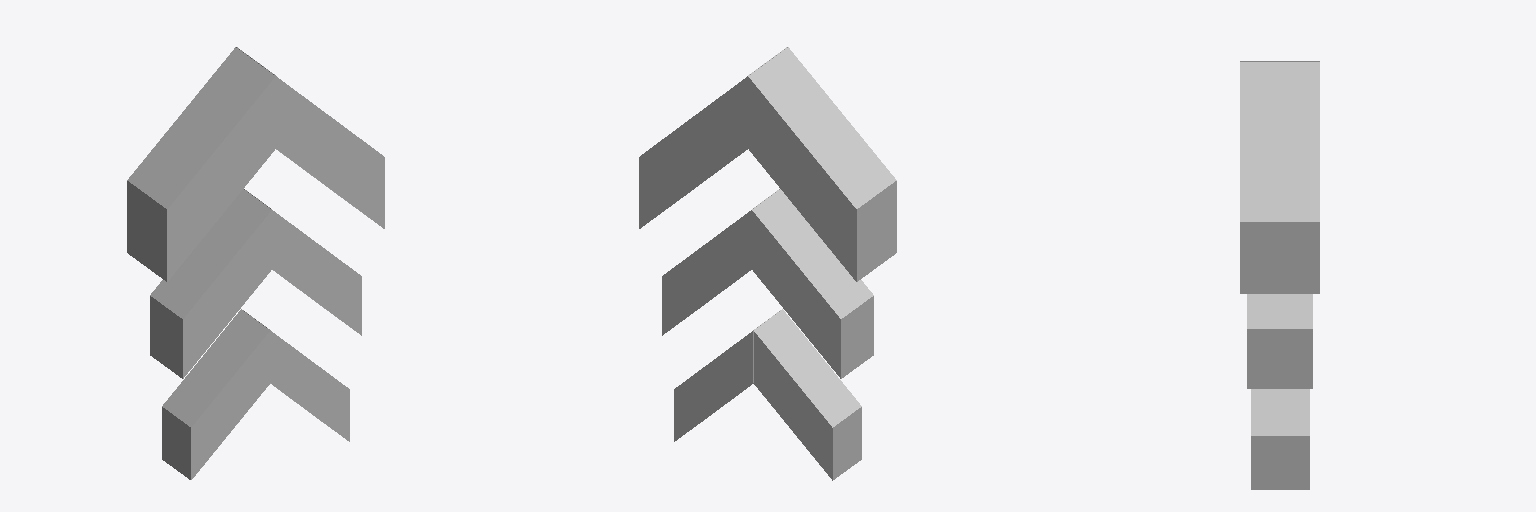
The model's file is SizeUP2.0.obj.
3 renders of one model, left to right at view 1: azimuth 30°, elevation 25°; view 2: azimuth 150°, elevation 25°; view 3: azimuth 270°, elevation 25°, orthographic.
Parts seen in each view (by area): view 1: Cube.004, Cube.002, Cube, Cube.005, Cube.003, Cube.001; view 2: Cube.004, Cube.002, Cube, Cube.005, Cube.003, Cube.001; view 3: Cube.005, Cube.003, Cube.001.
Boxes of the visible parts, box(x1,y1,x2,y2) form: Cube.004: box(127, 47, 275, 281); Cube.002: box(150, 189, 271, 378); Cube: box(162, 309, 270, 479); Cube.005: box(236, 47, 384, 228); Cube.003: box(244, 189, 361, 335); Cube.001: box(244, 311, 349, 441); Cube.004: box(748, 47, 896, 281); Cube.002: box(752, 189, 873, 378); Cube: box(754, 309, 861, 480); Cube.005: box(639, 47, 787, 228); Cube.003: box(662, 189, 779, 335); Cube.001: box(674, 311, 779, 441); Cube.005: box(1240, 62, 1319, 293); Cube.003: box(1247, 294, 1312, 388); Cube.001: box(1251, 389, 1309, 489).
Size of the model in its own units: 7.62 by 13.04 by 2.43.